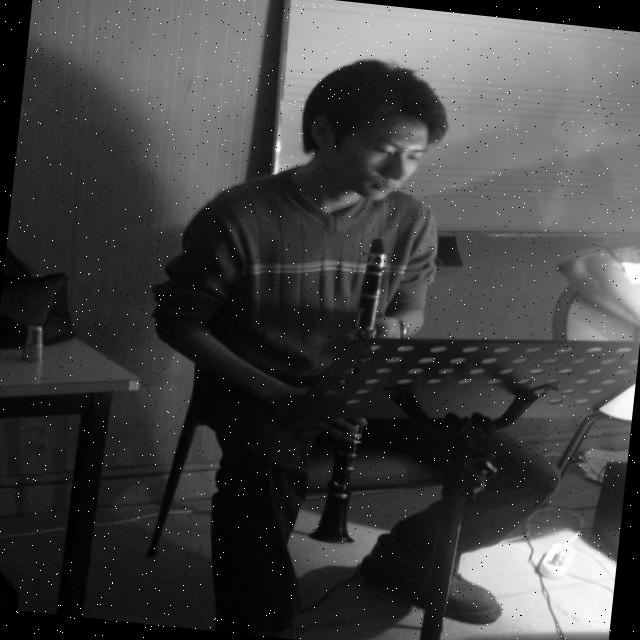clarinet: (302, 230, 397, 552)
